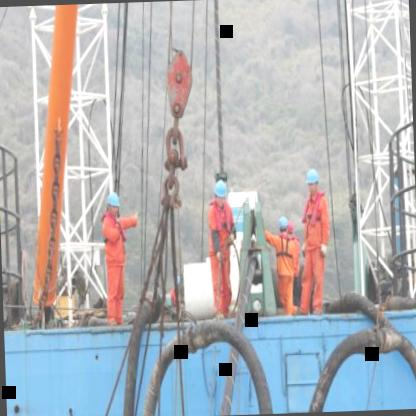helmet: (213, 176, 230, 210), (105, 188, 124, 218), (305, 166, 321, 196), (276, 213, 288, 237)
